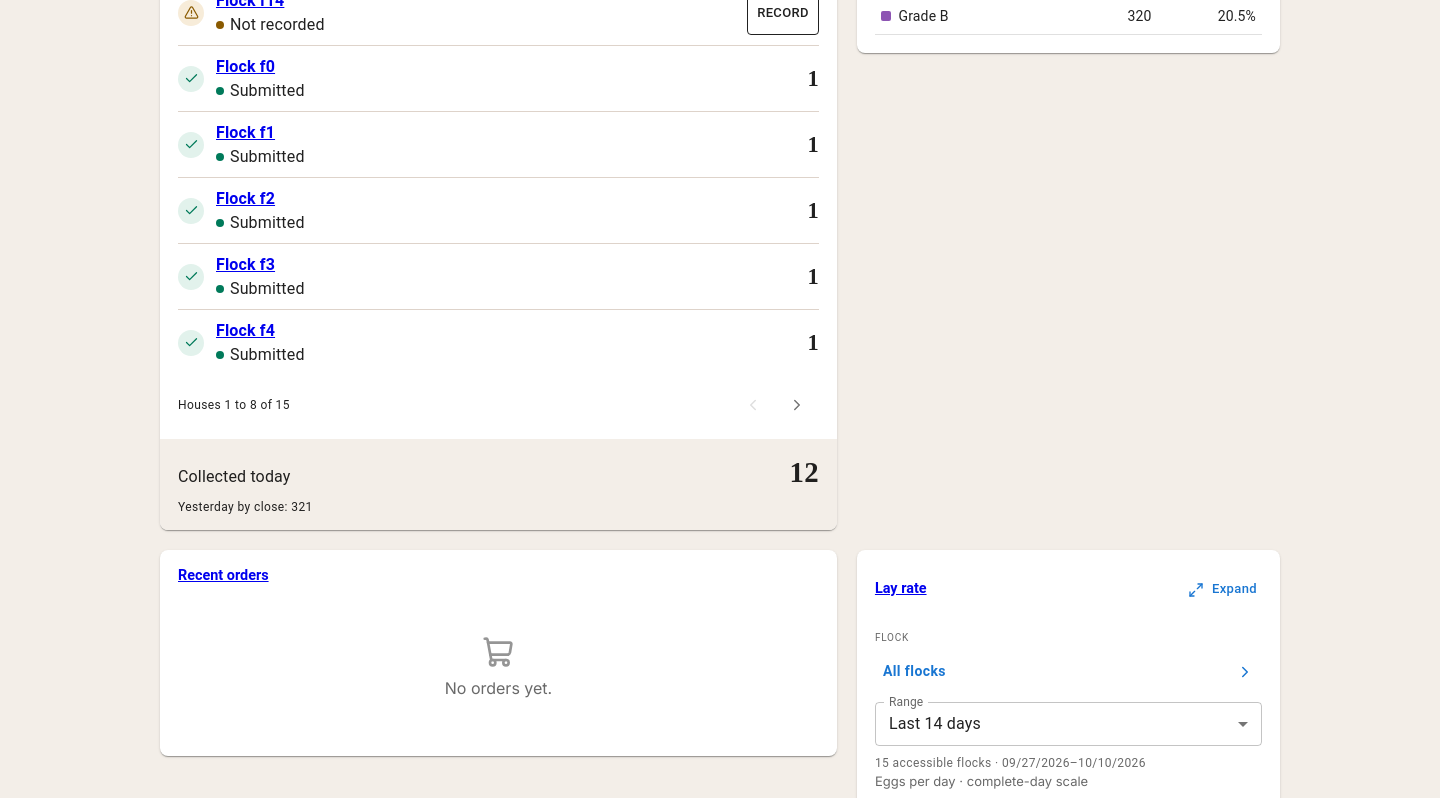
Test: Dashboard capture status (#654, #829 ruled list) › pages the list, missing houses first, and states where the reader is
(page scrolled)
Expected: the text "Houses 1 to 8 of 15" is shown, [178,396,290,415]
Click the button named "Next page of Morning collection". click: click(797, 406)
box: [775,384,819,428]
(page scrolled)
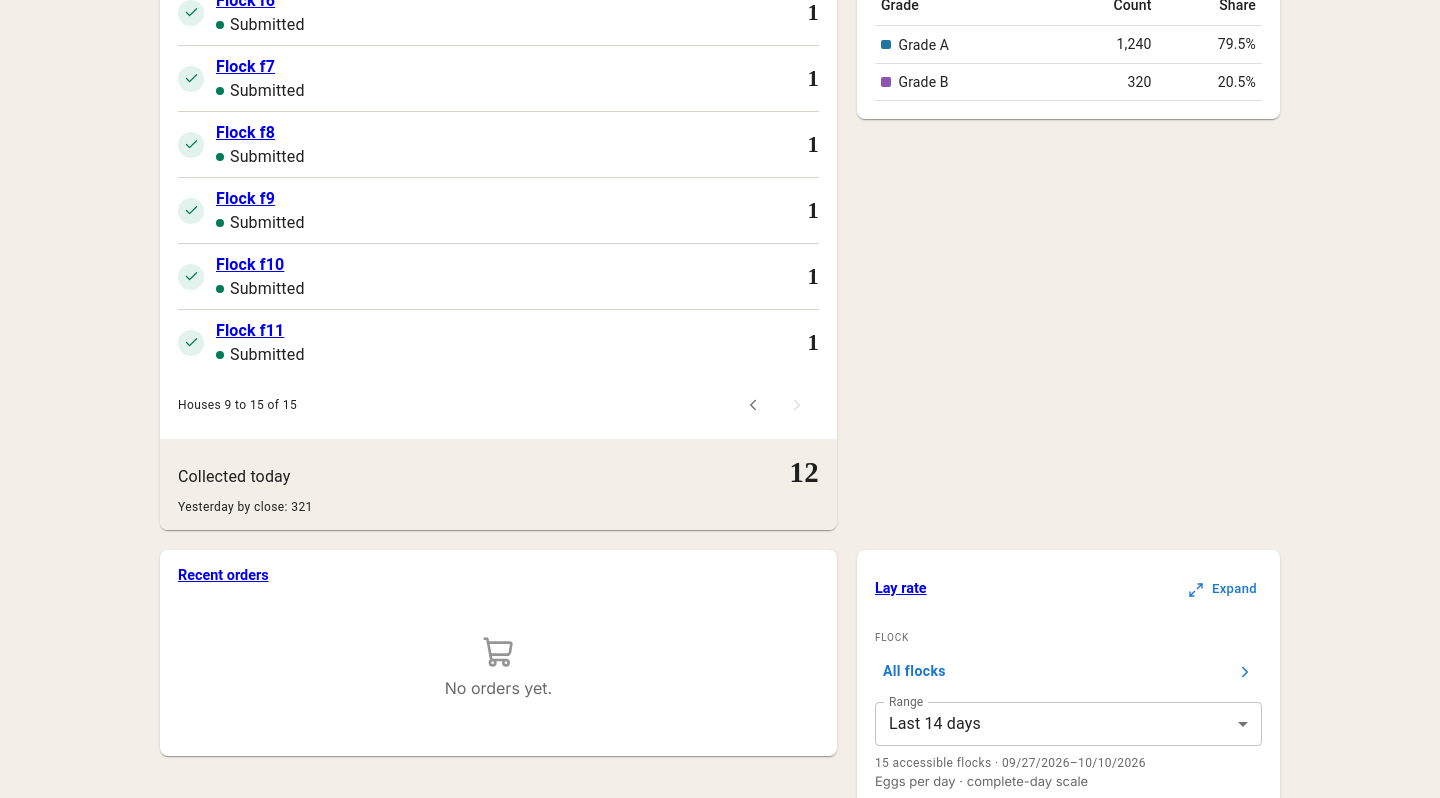
Now the text "Houses 9 to 15 of 15" is shown, box [178,396,297,415]
Now the number of links "open today's entry" is 7
Now the element "Flock f11" is shown, box [178,310,819,376]
Click the button named "Previous page of Morning collection". click: click(753, 406)
box: [731,384,775,428]
(page scrolled)
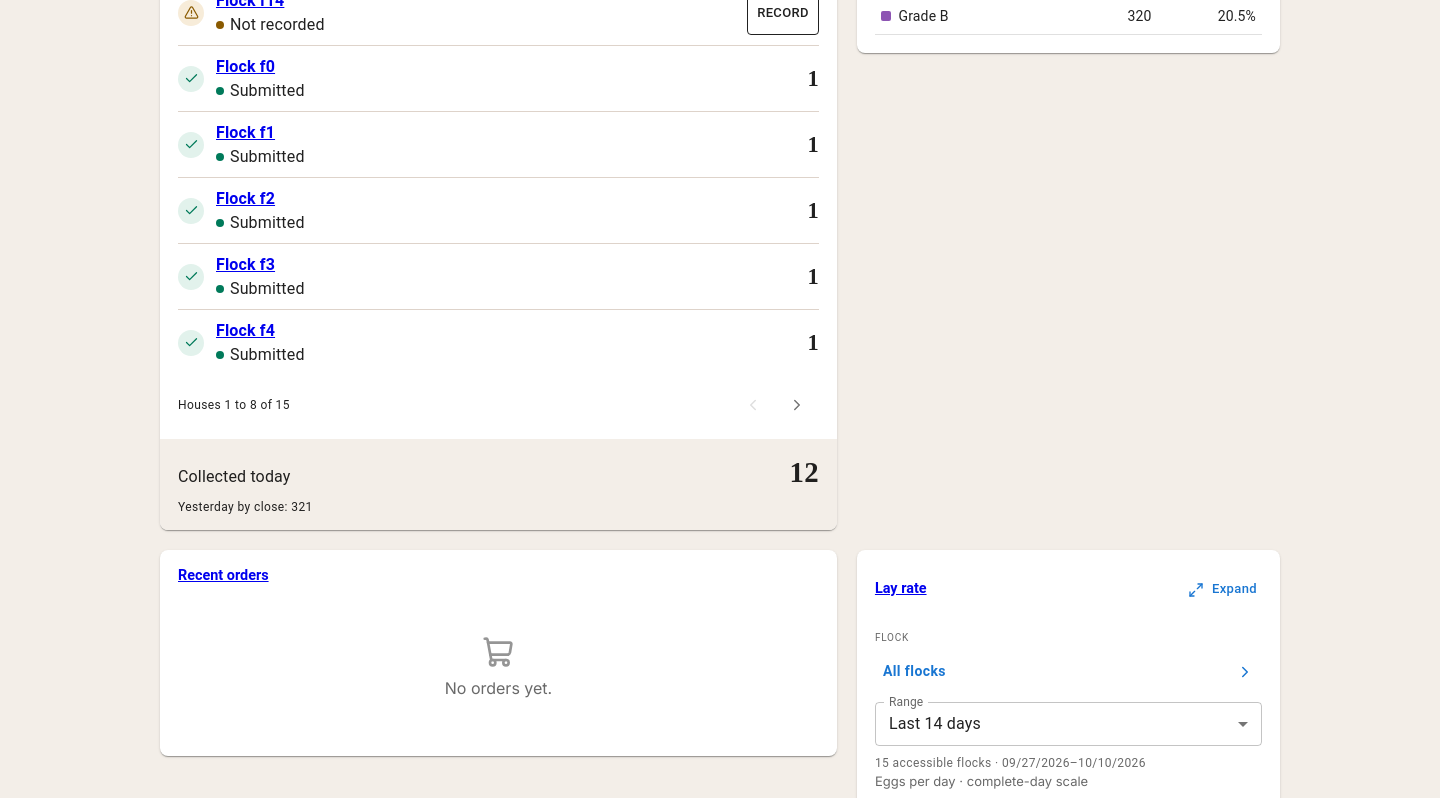
Now the text "Houses 1 to 8 of 15" is shown, box [178,396,290,415]
